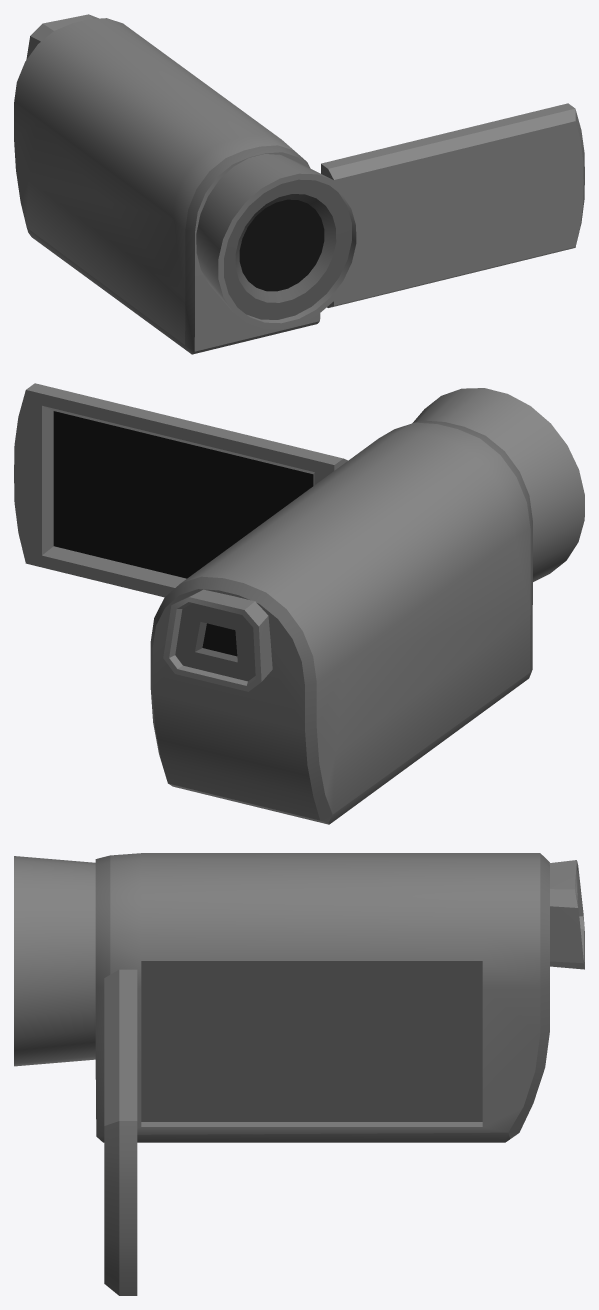
File: Video camera.fbx
The picture shows the model from 3 angles, top to bottom: view 1: azimuth 30°, elevation 25°; view 2: azimuth 150°, elevation 25°; view 3: azimuth 270°, elevation 25°; orthographic projection. The views are drawn at different scales.
Parts seen in each view (by area): view 1: Video camera; view 2: Video camera; view 3: Video camera.
Boxes of the visible parts, x1,y1,x2,y2 form: Video camera: (14, 14, 584, 354); Video camera: (14, 383, 584, 824); Video camera: (14, 853, 584, 1295).
Size of the model in its own units: 4.06 by 1.81 by 3.91.
Materials: 1 (1 with a texture image).
